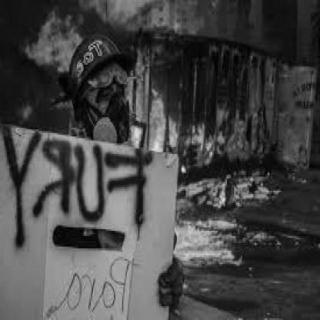Fire: (173, 167, 279, 267)
